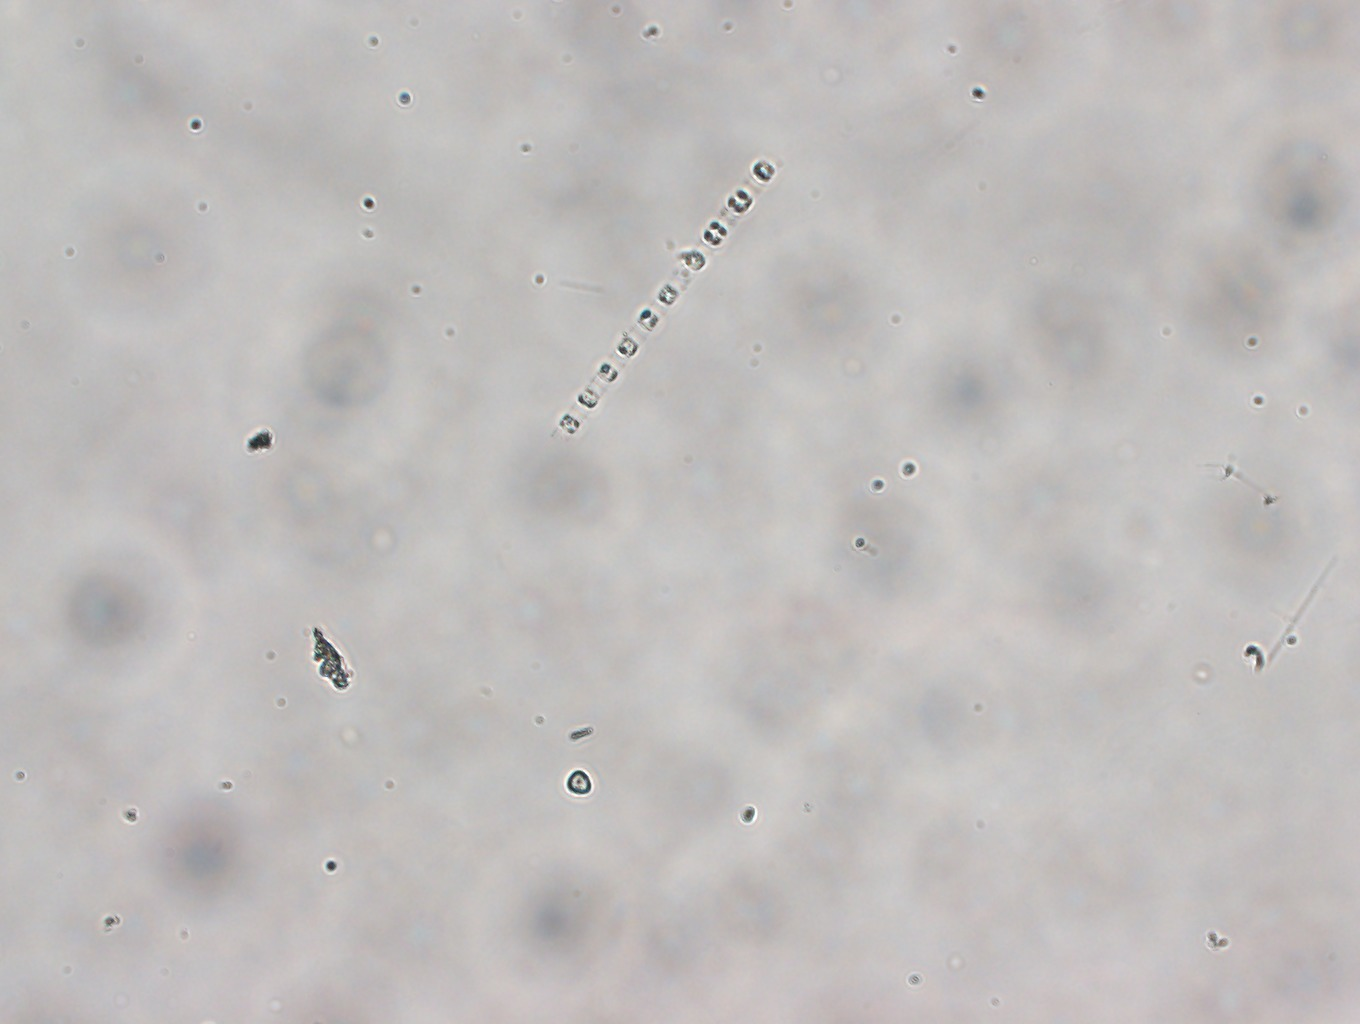skeletonema: (548, 141, 783, 442)
